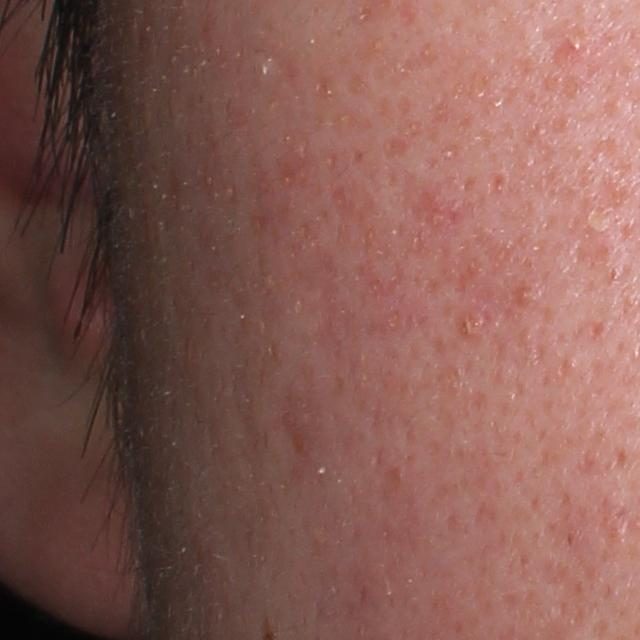comedo: (565, 357, 578, 372)
